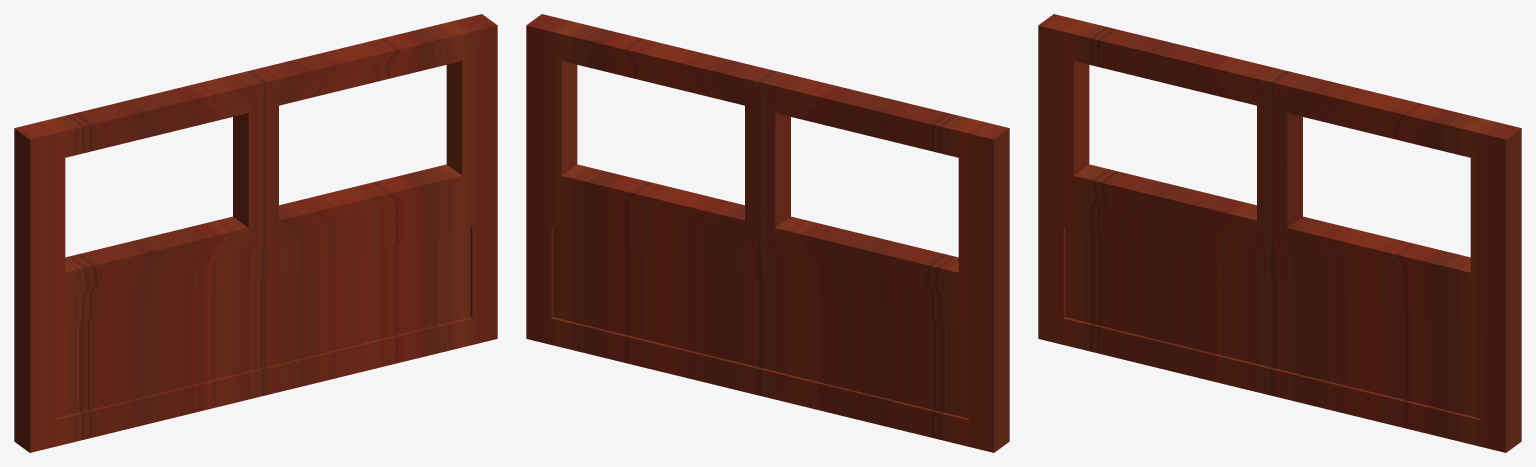
Rendered from fence.glb.
3 renders of one model, left to right at view 1: azimuth 30°, elevation 25°; view 2: azimuth 150°, elevation 25°; view 3: azimuth 330°, elevation 25°, orthographic.
Parts seen in each view (by area): view 1: 平面.004; view 2: 平面.004; view 3: 平面.004.
Part boxes in pixels (x1=…): 平面.004: x1=14, y1=14, x2=497, y2=452; 平面.004: x1=526, y1=14, x2=1009, y2=452; 平面.004: x1=1038, y1=14, x2=1521, y2=452.
Bounding box in the file's own units: 1.98 × 1.27 × 0.1151.
1 material, 1 textured.
